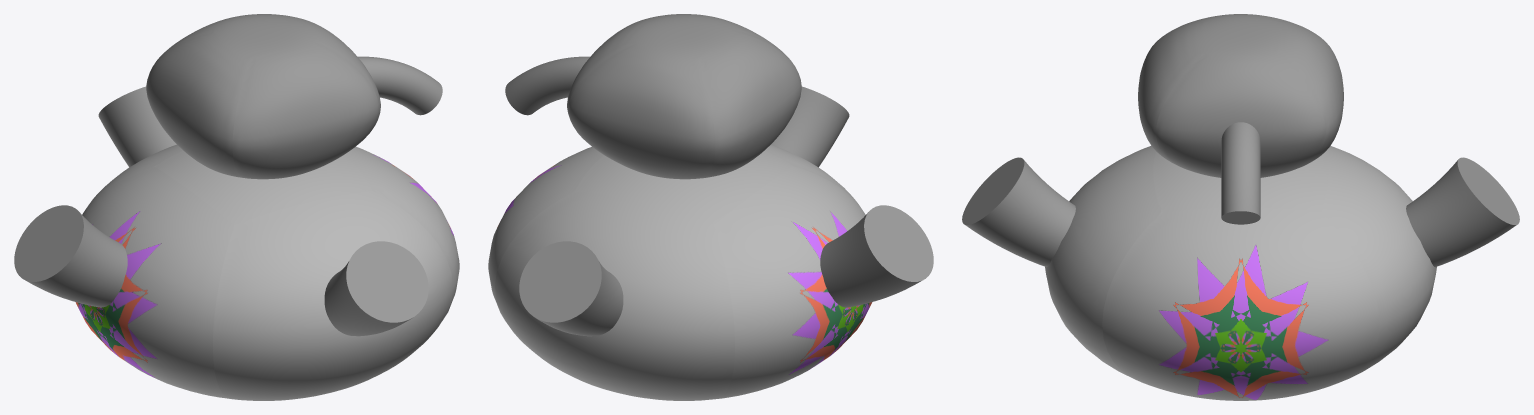
The picture shows the model from 3 angles, left to right: view 1: azimuth 30°, elevation 25°; view 2: azimuth 150°, elevation 25°; view 3: azimuth 270°, elevation 25°; orthographic projection.
Visible parts, largest first — view 1: Box001, Box002, Cone004, Cone002, Cone003, Cone001; view 2: Box001, Box002, Cone004, Cone003, Cone002, Cone001; view 3: Box001, Box002, Cone003, Cone002, Cone001.
Part boxes in pixels (<box>): Box001: <box>75,144,459,400</box>; Box002: <box>146,14,380,179</box>; Cone004: <box>14,205,127,307</box>; Cone002: <box>324,241,428,336</box>; Cone003: <box>98,86,176,167</box>; Cone001: <box>358,56,442,115</box>; Box001: <box>488,145,872,400</box>; Box002: <box>567,14,801,179</box>; Cone004: <box>820,205,933,307</box>; Cone003: <box>519,241,623,336</box>; Cone002: <box>771,86,849,167</box>; Cone001: <box>505,56,589,115</box>; Box001: <box>1045,145,1436,400</box>; Box002: <box>1138,14,1343,177</box>; Cone003: <box>1406,157,1519,267</box>; Cone002: <box>962,157,1075,267</box>; Cone001: <box>1221,122,1260,224</box>.
Bounding box in the file's own units: 49.11 × 38.19 × 56.88.
Materials: 2 (1 with a texture image).
